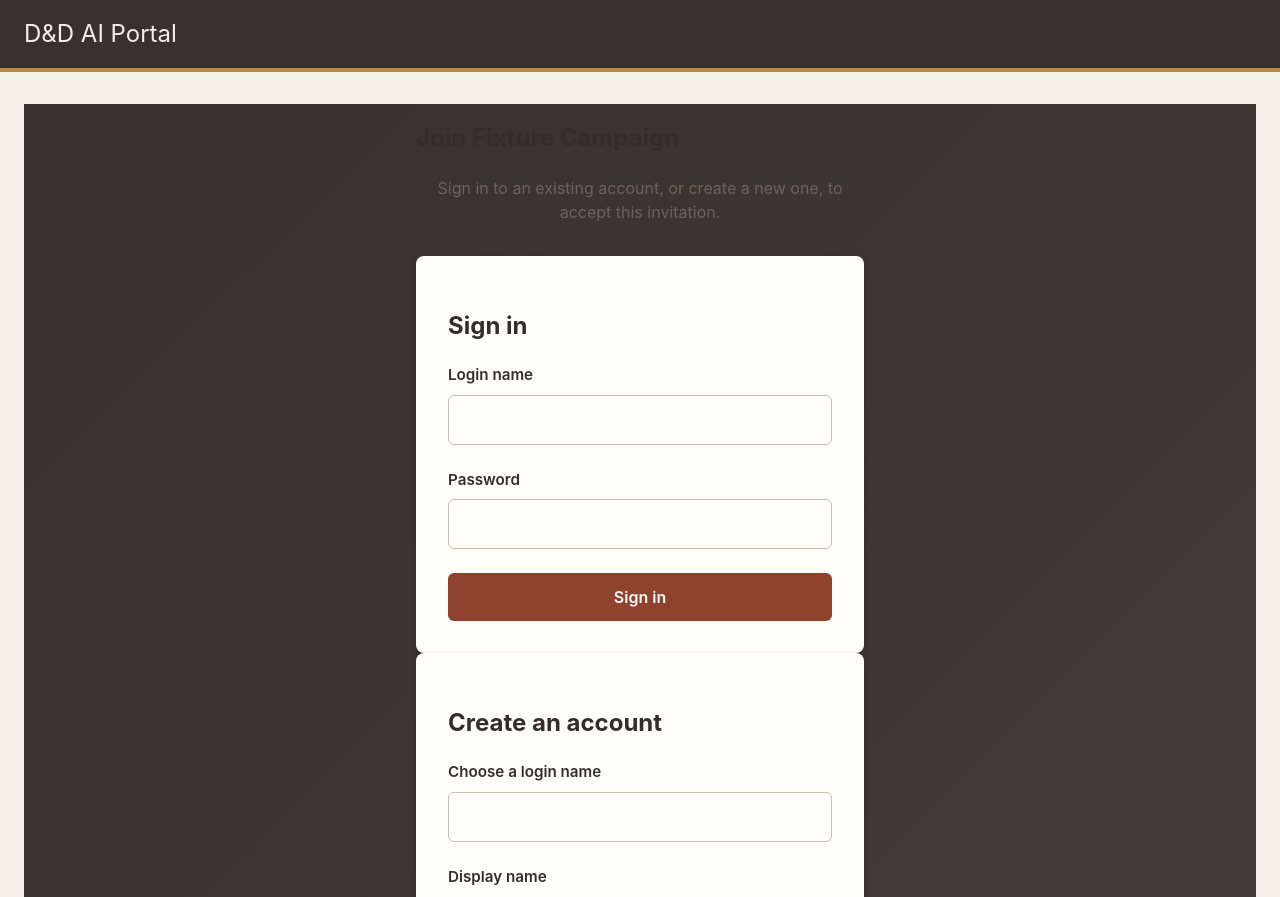
Test case: invitation continuation across Login › does not accept when the user chooses Not now, and closes the continuation
Type "existing" into the field labelled "Login name". click: x=640, y=420
box: [448, 394, 832, 444]
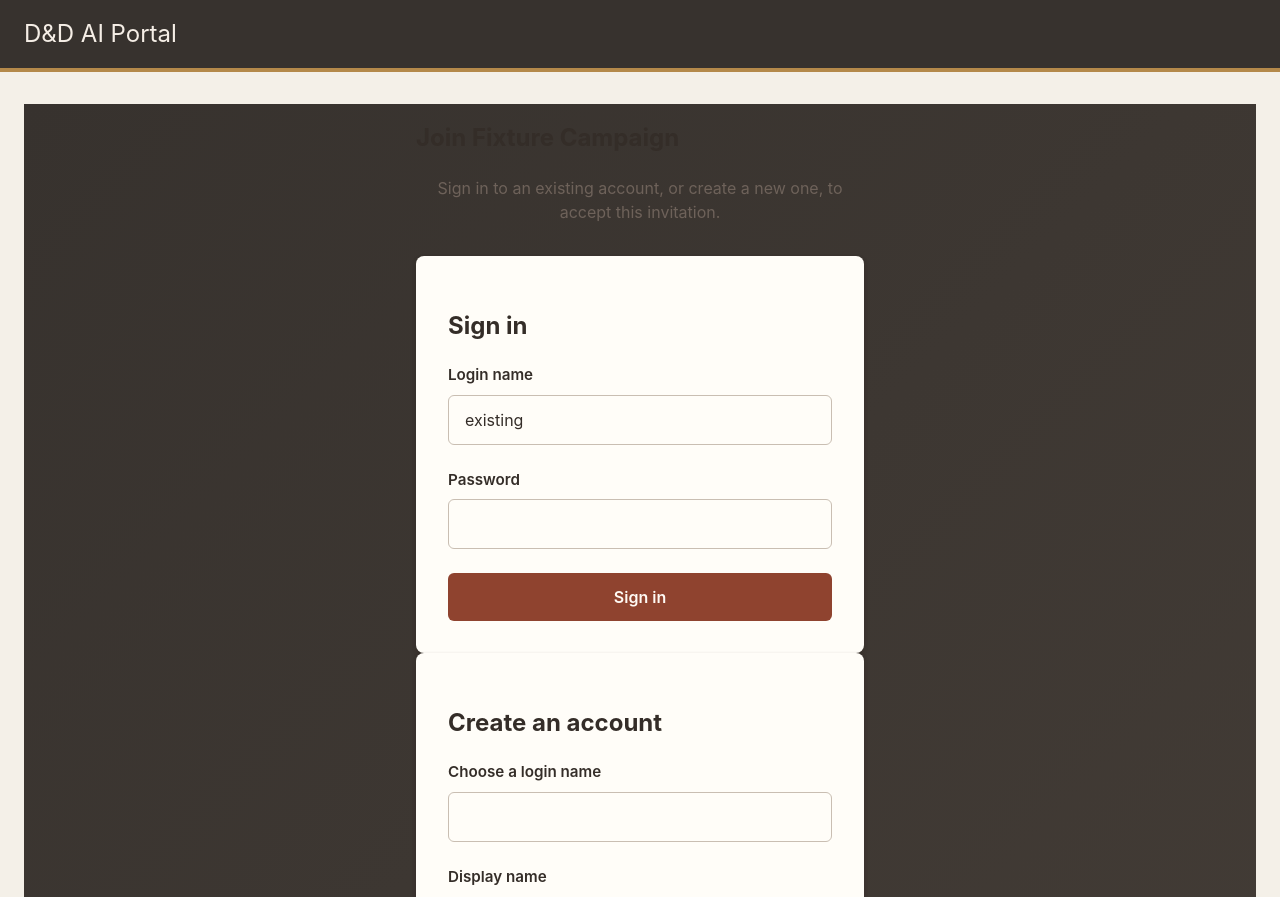
Type "correct horse battery staple" into the password field labelled "Password". click: x=640, y=524
box: [448, 499, 832, 549]
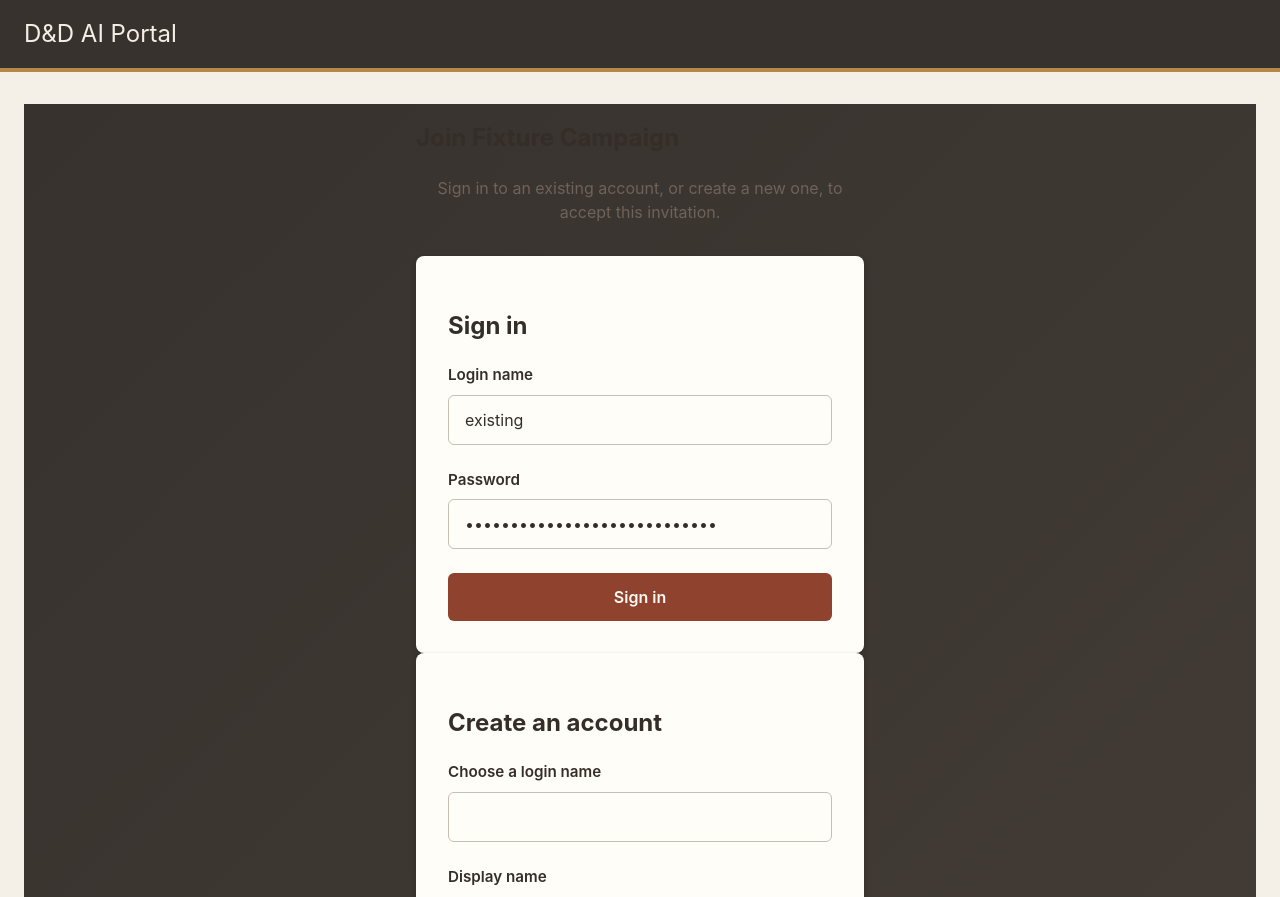
Click the button "Sign in". click: x=640, y=597
box: [448, 573, 832, 621]
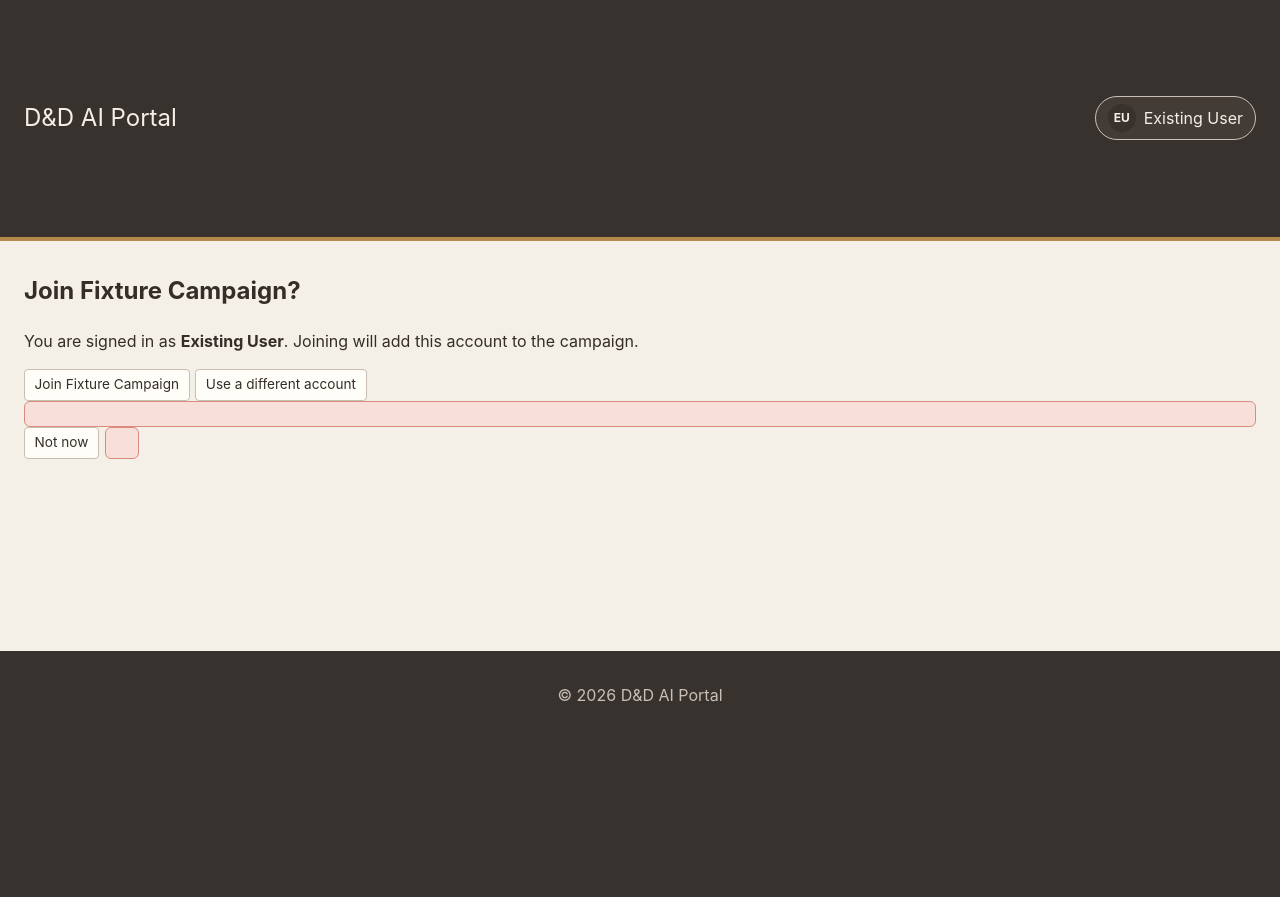
Click the button "Not now". click: x=61, y=443
box: [24, 427, 99, 459]
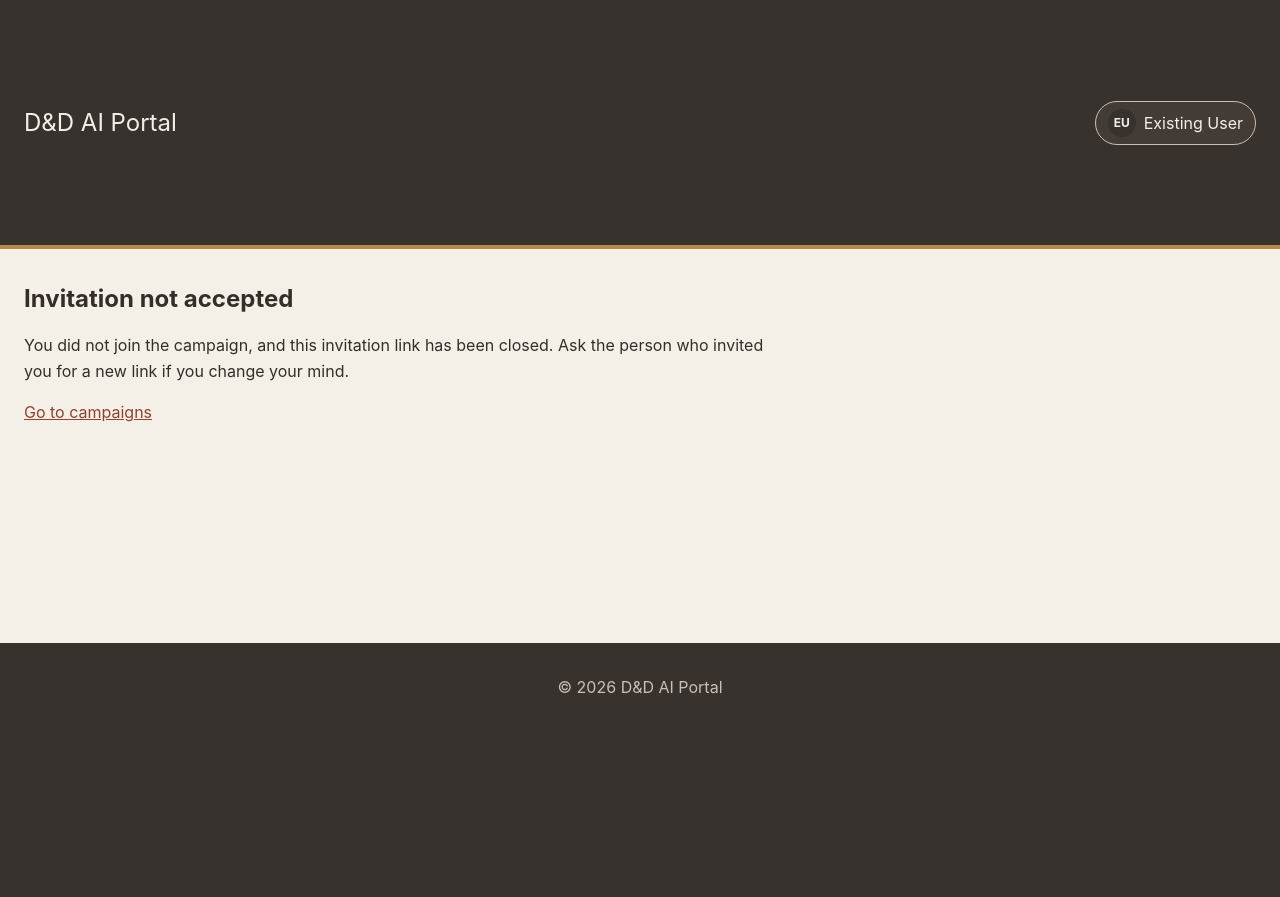
expect the heading "Invitation not accepted" is shown: met, box [24, 284, 293, 313]
